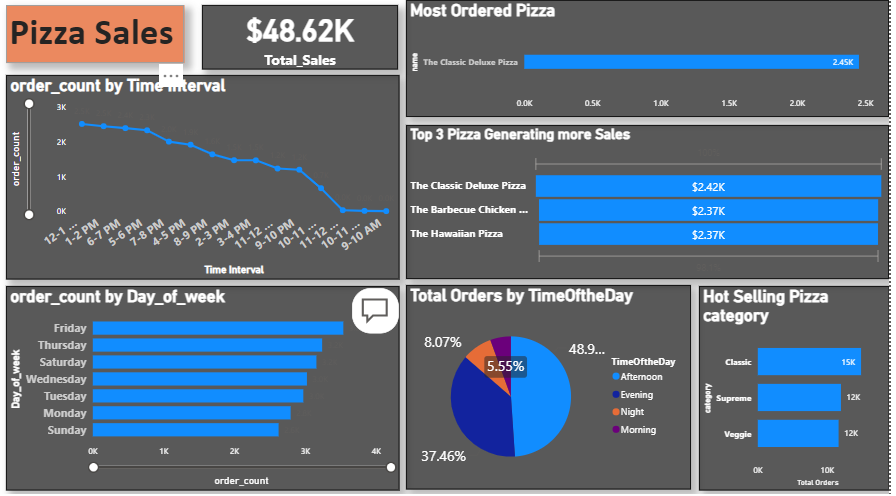

What the dashboard file says about the page in this screenshot:
{"tool":"powerbi","page":{"name":"Page 1","canvas":[1280,720],"ordinal":0},"visuals":[{"type":"lineChart","fields":{"Category":["Order.Time Interval"],"Y":["Order.order_count"]},"box":[18.3,106.7,561.7,291.7],"z":0},{"type":"textbox","box":[18.3,6.7,255,83.3],"z":1000},{"type":"barChart","fields":{"Category":["Order.Day_of_week"],"Y":["Order.order_count"]},"box":[18,409,562,292],"z":2000},{"type":"textbox","box":[590,106.7,110,60],"z":3000},{"type":"actionButton","box":[513.3,411.7,66.7,65],"z":4000},{"type":"card","fields":{"Values":["Order_details.Total_Sales"]},"box":[298.3,6.7,280,91.7],"z":5000},{"type":"clusteredBarChart","title":"Most Ordered Pizza","fields":{"Category":["Pizza_Types.name"],"Y":["Order_details.Total Orders"]},"box":[590,0,690,166.7],"z":6000},{"type":"funnel","title":"Top 3 Pizza Generating more Sales","fields":{"Y":["Order_details.Total_Sales"],"Category":["Pizza_Types.name"]},"box":[590,178.3,690,220],"z":6001},{"type":"pieChart","fields":{"Y":["Order_details.Total Orders"],"Category":["Order.TimeOftheDay"]},"box":[590,406.7,406.7,291.7],"z":6002},{"type":"clusteredBarChart","title":"Hot Selling Pizza category","fields":{"Category":["Pizza_Types.category"],"Y":["Order_details.Total Orders"]},"box":[1008.3,408.3,271.7,291.7],"z":6003}]}

Visuals, with their boxes in screenshot pixels (x1, y1, x2, y2), scaled from the page's 1280x720 canvas onto the 896x496 screenshot:
lineChart - Order.Time Interval x Order.order_count: 13, 74, 406, 274
textbox: 13, 5, 191, 62
barChart - Order.Day_of_week x Order.order_count: 13, 282, 406, 483
textbox: 413, 74, 490, 115
actionButton: 359, 284, 406, 328
card - Order_details.Total_Sales: 209, 5, 405, 68
"Most Ordered Pizza" clusteredBarChart: 413, 0, 895, 115
"Top 3 Pizza Generating more Sales" funnel: 413, 123, 895, 274
pieChart - Order_details.Total Orders x Order.TimeOftheDay: 413, 280, 698, 481
"Hot Selling Pizza category" clusteredBarChart: 706, 281, 895, 482
